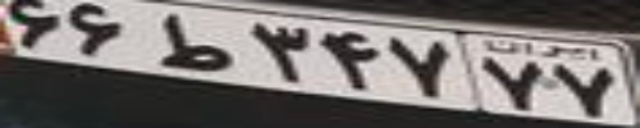3: (251, 23, 305, 81)
4: (318, 30, 377, 91)
6: (67, 2, 123, 55), (9, 0, 63, 50)
7: (386, 35, 451, 97), (479, 54, 544, 111), (550, 62, 613, 117)
taa: (156, 12, 233, 72)
